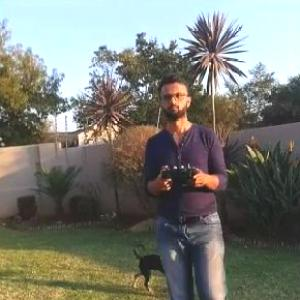follow: (148, 71, 236, 299)
null: (132, 240, 162, 290)
